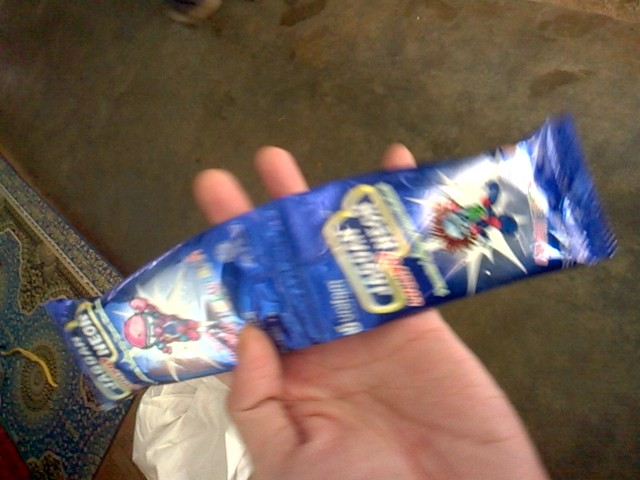jagoan neon: (257, 114, 618, 344), (45, 207, 317, 418)
